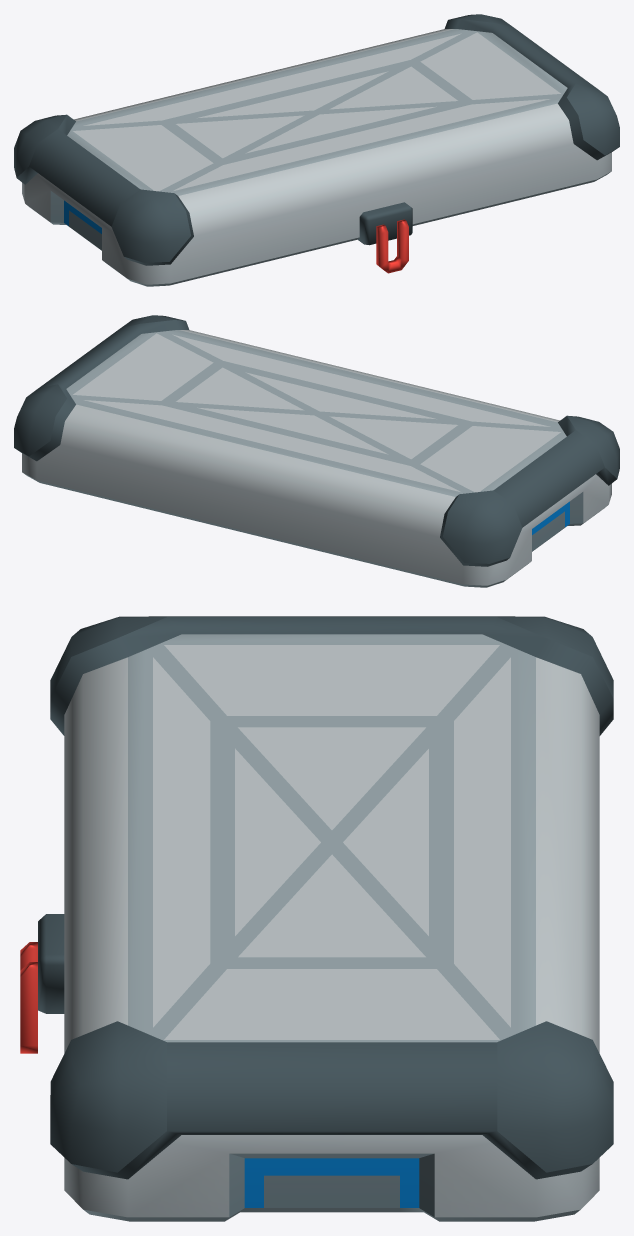
File: Crate_005_cap_001.fbx
3 views of the same model, one above another, from view 1: azimuth 30°, elevation 25°; view 2: azimuth 150°, elevation 25°; view 3: azimuth 270°, elevation 25° (orthographic). The views are drawn at different scales.
Parts seen in each view (by area): view 1: Crate_005_cap_001; view 2: Crate_005_cap_001; view 3: Crate_005_cap_001.
Part boxes in pixels (left/top/right/bottom): Crate_005_cap_001: left=14, top=14, right=619, bottom=286; Crate_005_cap_001: left=14, top=315, right=619, bottom=587; Crate_005_cap_001: left=20, top=616, right=613, bottom=1221.
Bounding box in the file's own units: 133 × 69.36 × 28.06.
